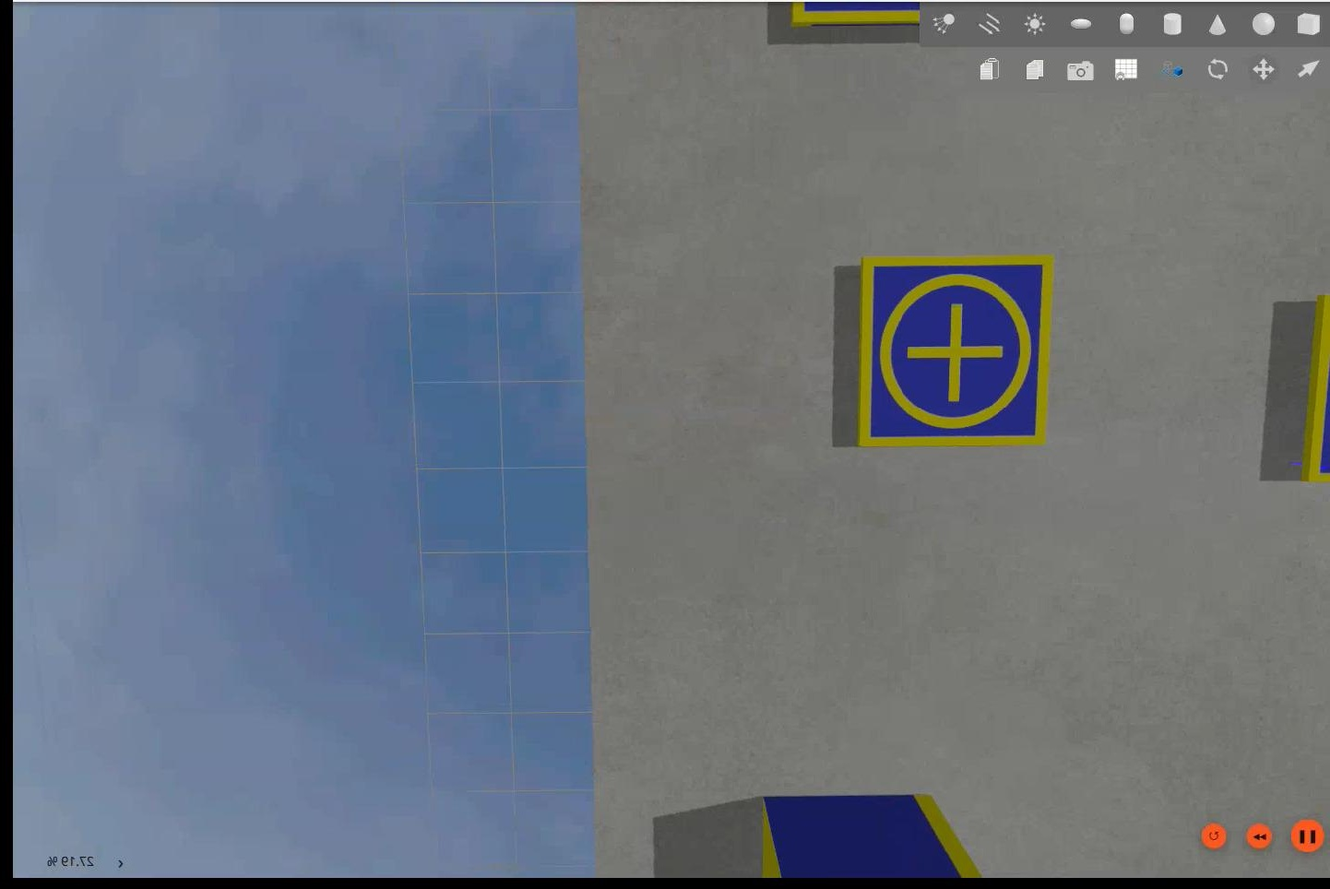small_base: (850, 253, 1055, 450)
